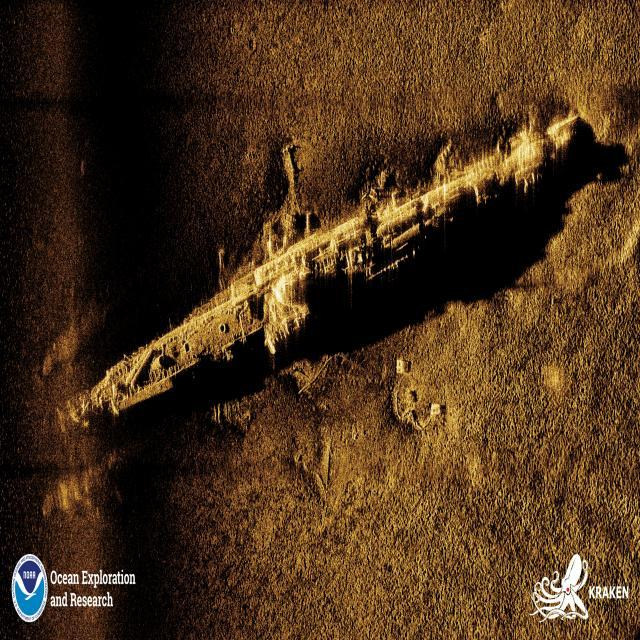shipwreck: (99, 110, 583, 421)
